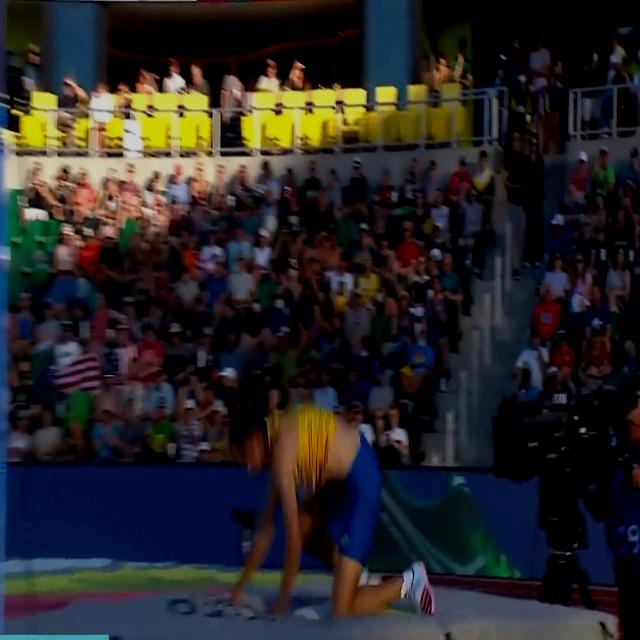land: (228, 402, 435, 617)
